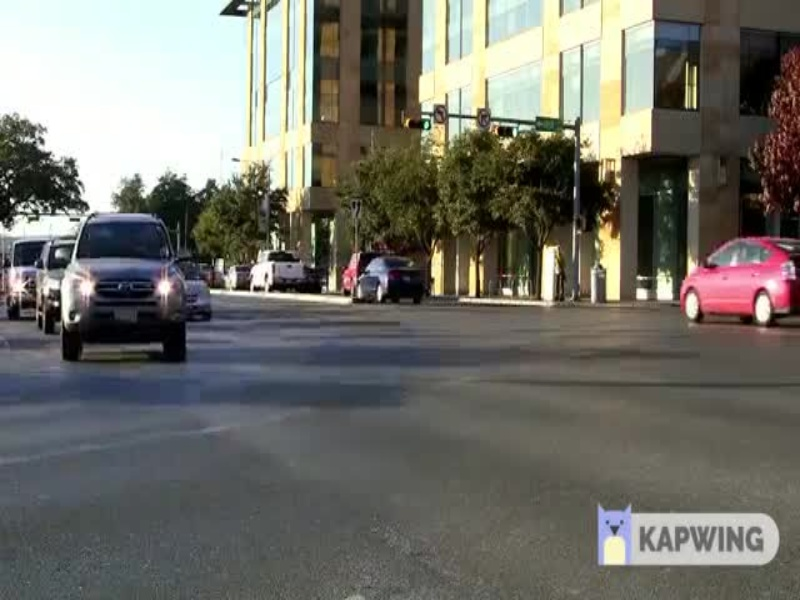car: (666, 221, 800, 335), (343, 260, 436, 304)
suv: (52, 209, 190, 373)
